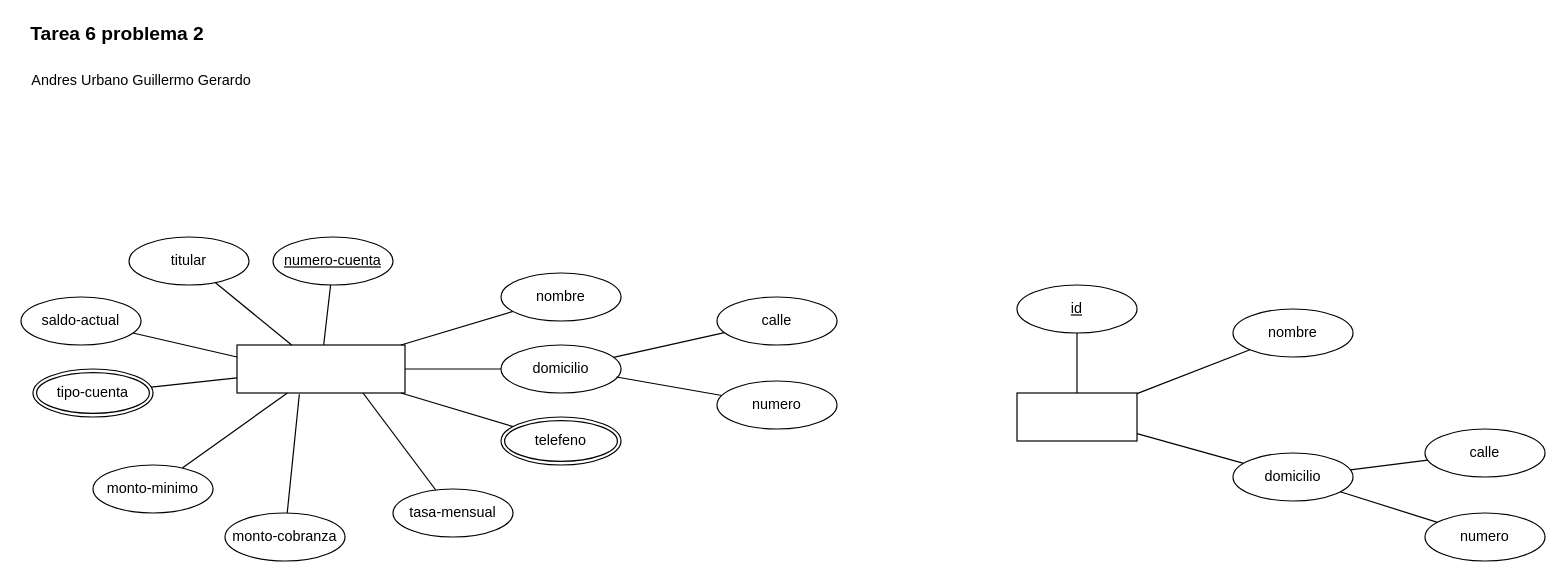
This 1566x582 diagram has some shape labels left out. Here are the shapes that lost their labels. From the top down, the centre of each, then its label:
At [320,368]: "CUENTA-BANCARIA".
At [1076,416]: "SUCURSAL".
